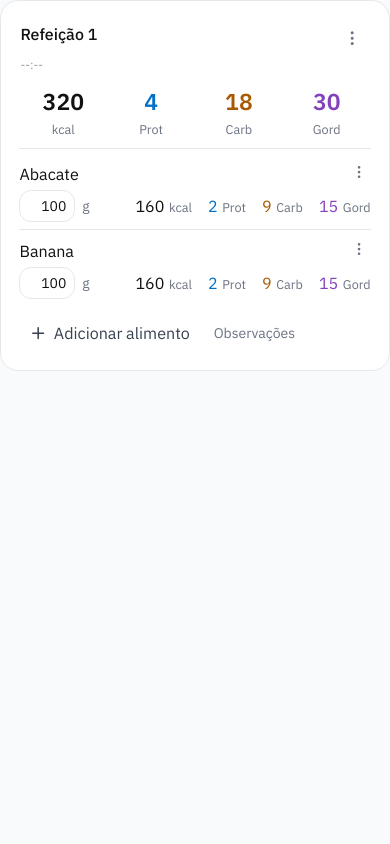
it: RM01 — long press instead of a permanent handle in the Diário › holding an item opens this meal's own reorder sheet, not the day's
Press the mouse on the element showing "Abacate g 160 kcal 2 Prot 9 Carb 15 Gord" at coordinates (49, 173), box [19,153,371,229]
Wait 2000 ms
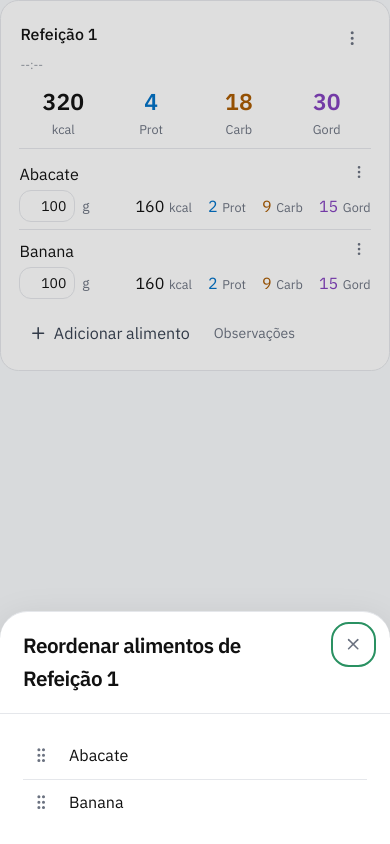
Expected: the heading "Reordenar alimentos de Refeição 1" is shown, [23,632,241,692]
